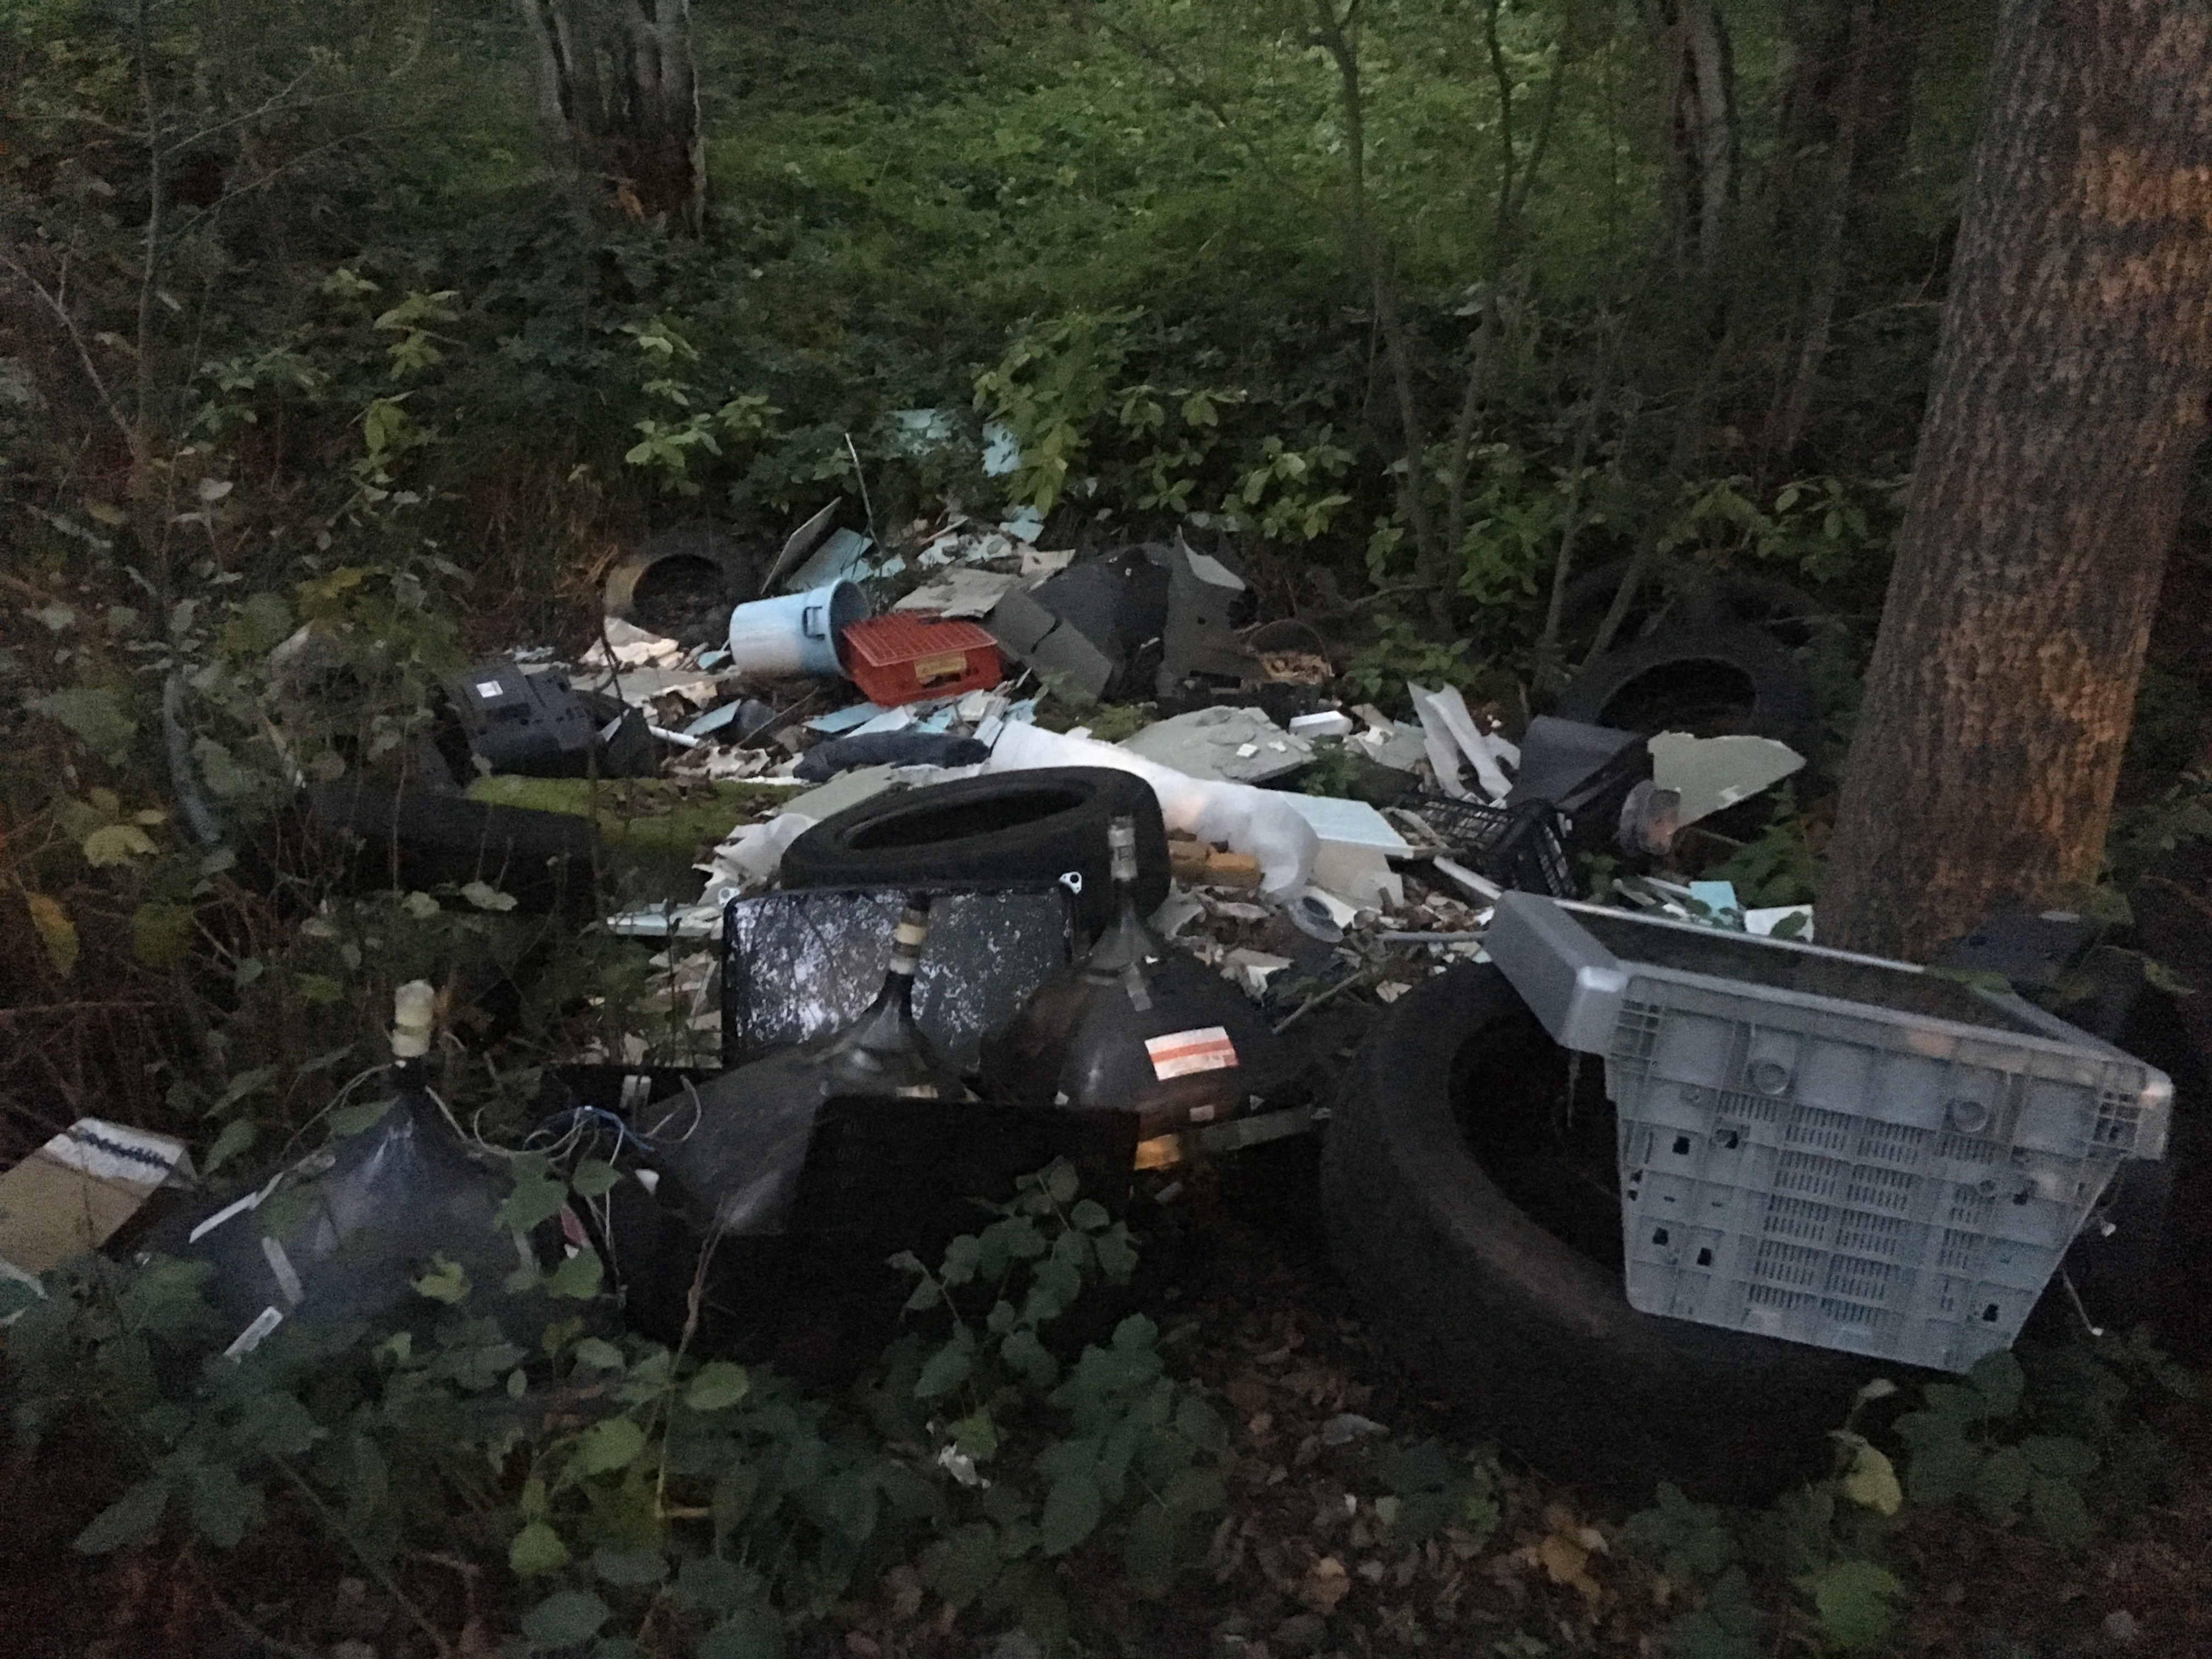trash: (345, 382, 2137, 1480)
